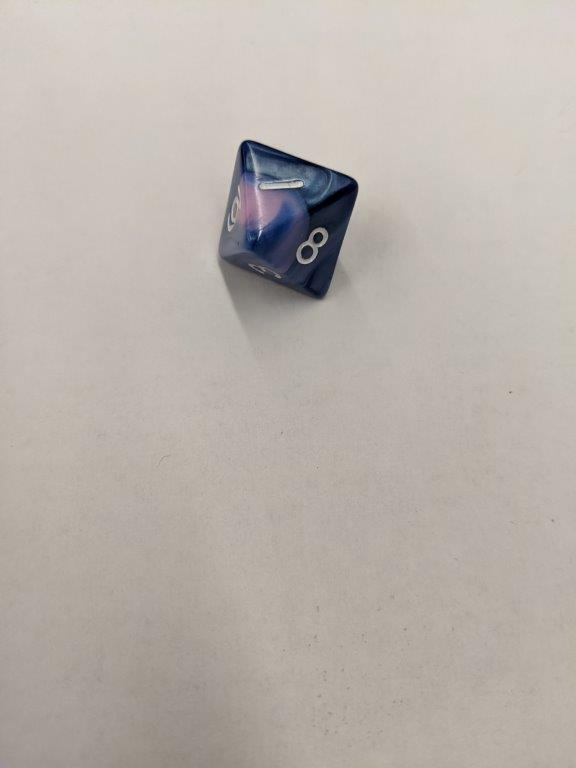d8-1: (214, 137, 363, 300)
